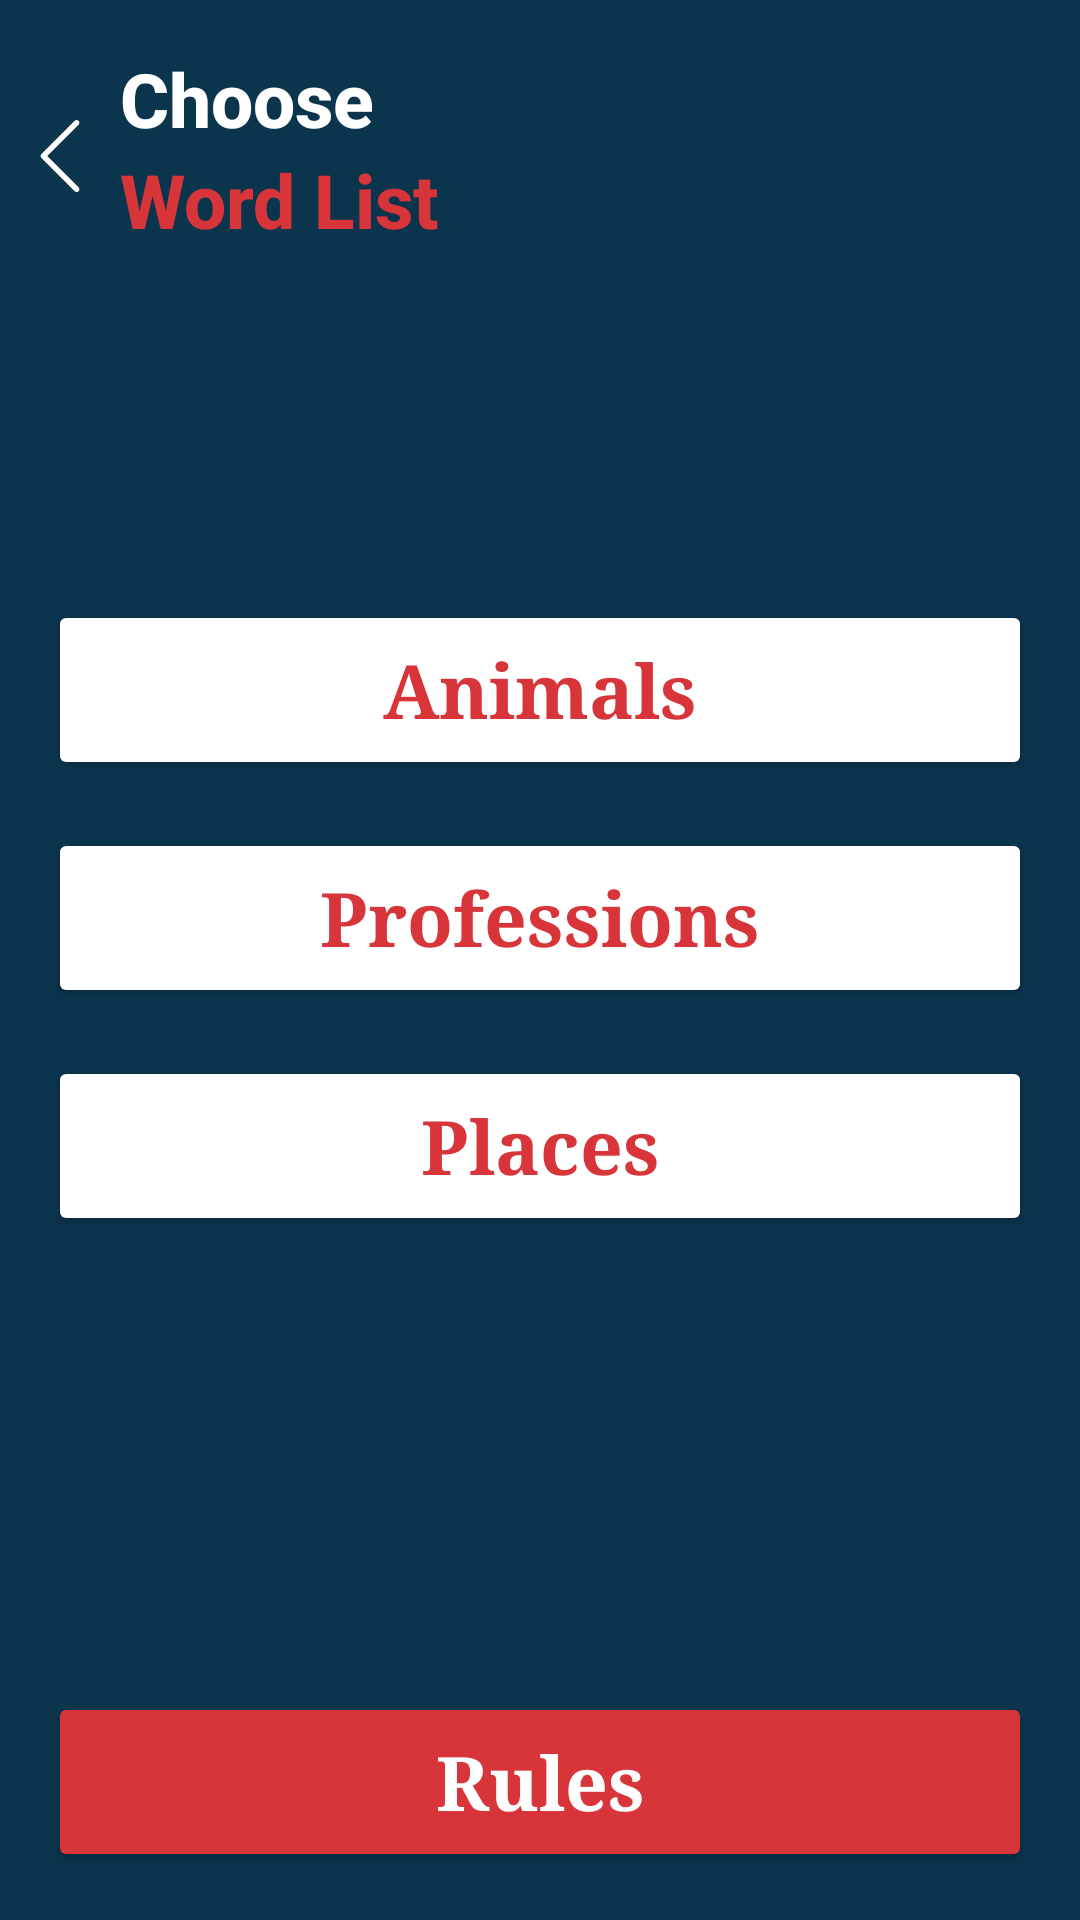

Screen size 1080x1920. Icon name, then its center in pixels as [x,y]:
back: [60,156]
